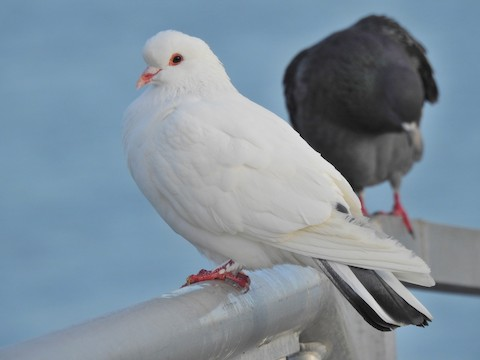pigeon: (120, 26, 443, 333), (267, 12, 443, 244)
